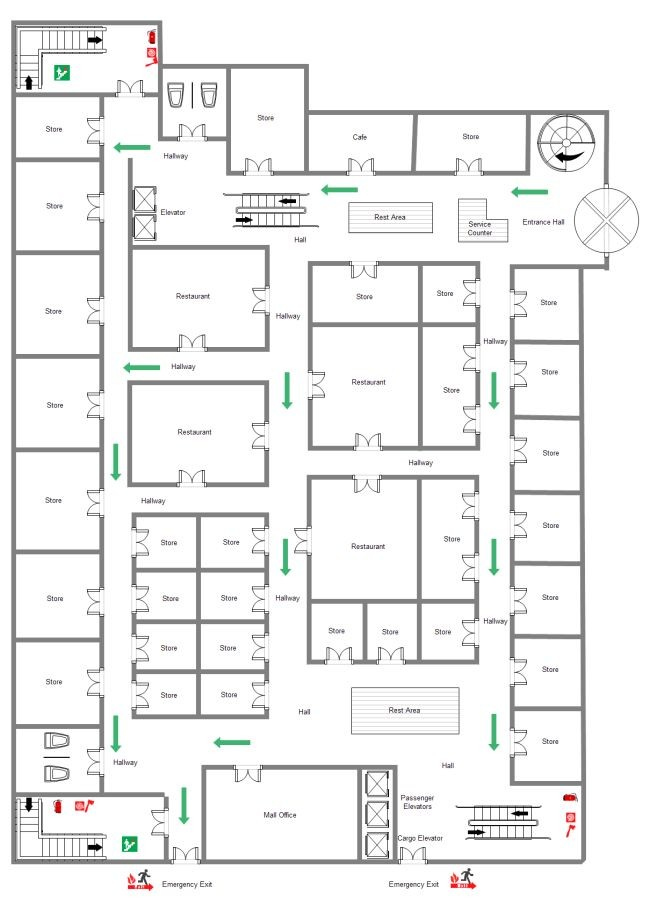room: (512, 262, 583, 793), (195, 751, 405, 868), (121, 232, 277, 362), (120, 373, 271, 487), (308, 468, 430, 605), (308, 316, 420, 454), (416, 476, 484, 672), (306, 256, 486, 328), (1, 246, 112, 362), (10, 20, 171, 98), (5, 151, 110, 261), (5, 447, 108, 558), (2, 543, 112, 646), (223, 60, 313, 182), (9, 350, 110, 454), (298, 103, 423, 186), (124, 610, 279, 676), (409, 98, 539, 176), (132, 572, 272, 631), (121, 665, 269, 720), (135, 512, 269, 571), (8, 93, 105, 161), (160, 73, 234, 142)
